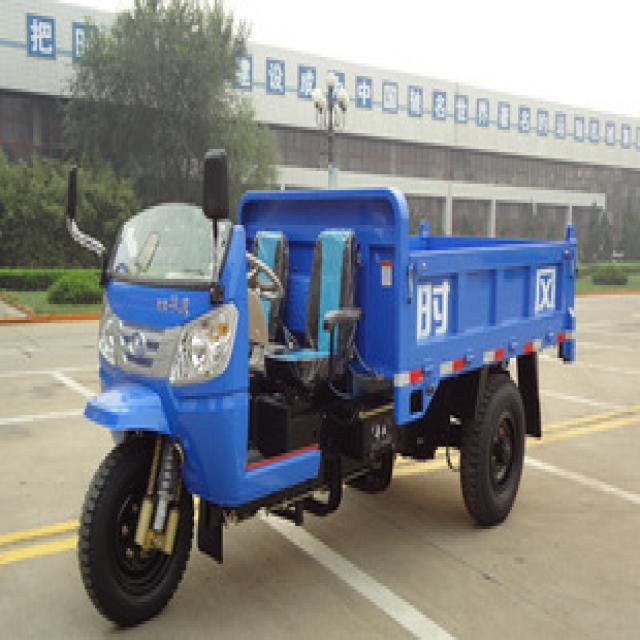tricycle: (62, 146, 576, 621)
